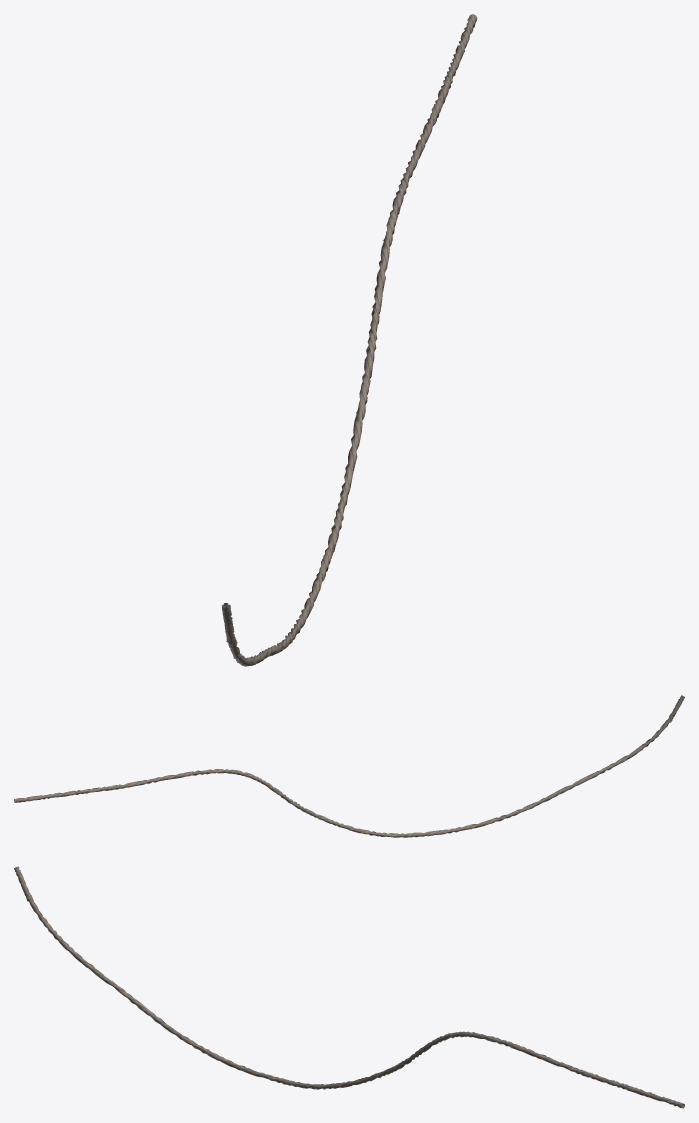
File: SM_RopeSplineMesh_Splines_1.fbx
The picture shows the model from 3 angles, top to bottom: view 1: azimuth 30°, elevation 25°; view 2: azimuth 150°, elevation 25°; view 3: azimuth 270°, elevation 25°; orthographic projection. The views are drawn at different scales.
Parts seen in each view (by area): view 1: SM_RopeSplineMesh_Splines_1; view 2: SM_RopeSplineMesh_Splines_1; view 3: SM_RopeSplineMesh_Splines_1.
Part boxes in pixels (x1,y1,x2,y2): SM_RopeSplineMesh_Splines_1: (221,14,477,666); SM_RopeSplineMesh_Splines_1: (14,695,684,837); SM_RopeSplineMesh_Splines_1: (14,866,684,1108).
Bounding box in the file's own units: 245 × 292 × 59.95.
